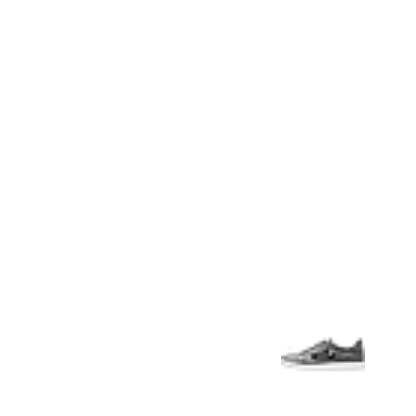Sneaker: (281, 311, 365, 395)
